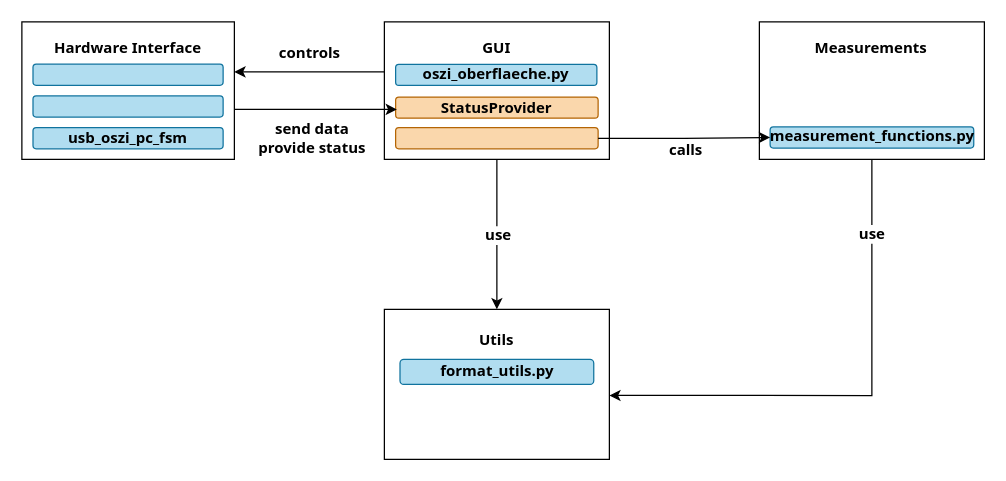
The diagram is 1006 pixels wide and 481 high, and some of its shapes have lost their labels. The shapes that lost their labels are listed below. From the top down, each one's centre as x and y in pixels, then its label:
the point at 127,74: find_usb_device.py
the point at 127,106: serial_interface.py
the point at 496,137: MeasureWorker
